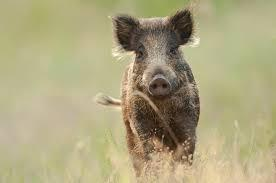wildboar: (88, 7, 203, 177)
